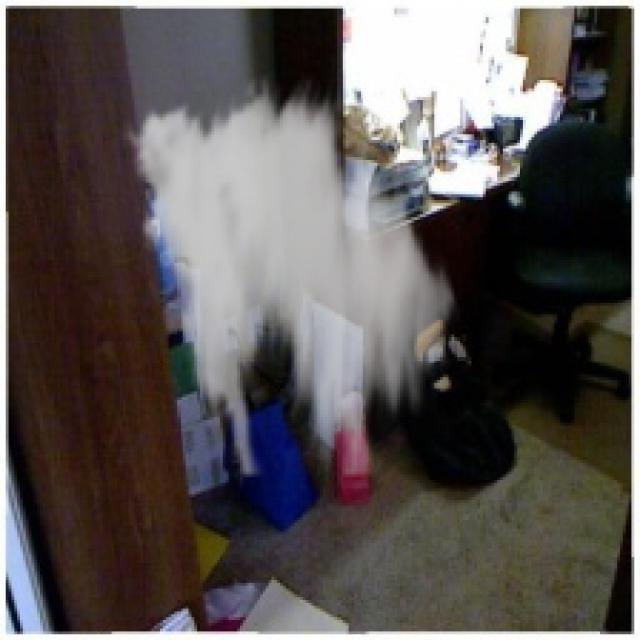Smoke: (117, 74, 466, 477)
